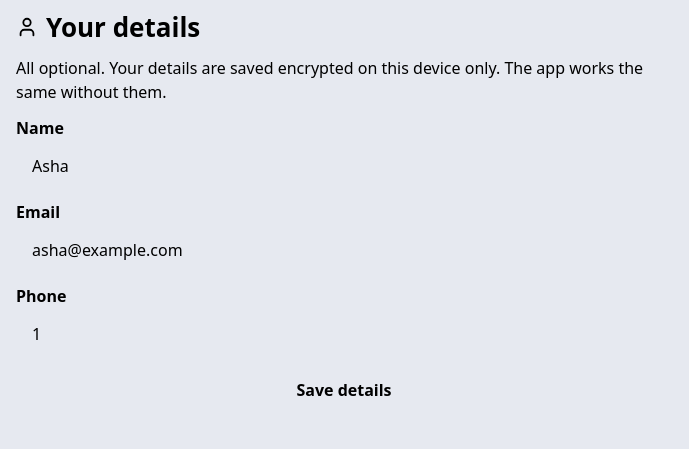
Scenario: ProfileCard: saving › only the name filled: the other fields are left out of the saved profile
expect the field labelled "Name" is shown: met, box top-left (16, 144), bottom-right (672, 188)
Step 1. Clear the field labelled "Email" → (344, 250), box top-left (16, 228), bottom-right (672, 272)
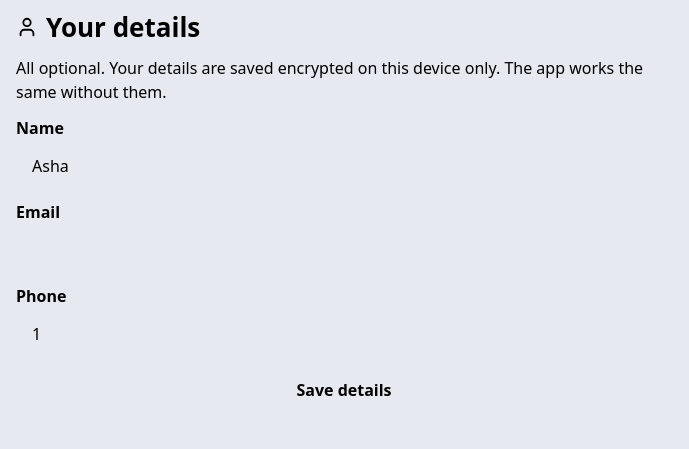
Step 2. Clear the field labelled "Phone" → (344, 334), box top-left (16, 312), bottom-right (672, 356)
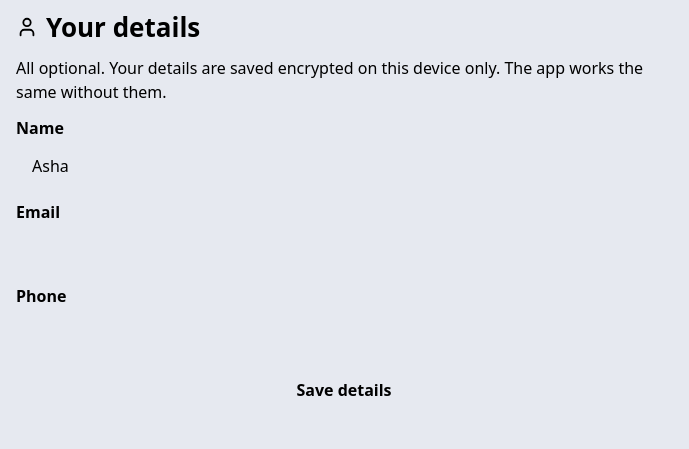
Step 3. Click the button "Save details" → (344, 390), box top-left (16, 368), bottom-right (672, 412)
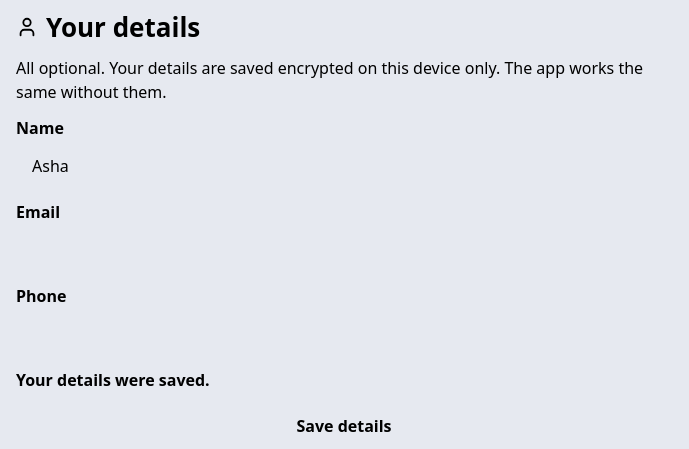
expect the message reads "Your details were saved.": met, box top-left (16, 368), bottom-right (210, 390)
